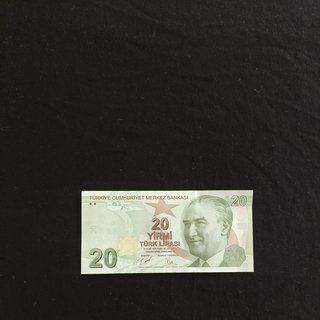20TLFront: (80, 190, 254, 274)
